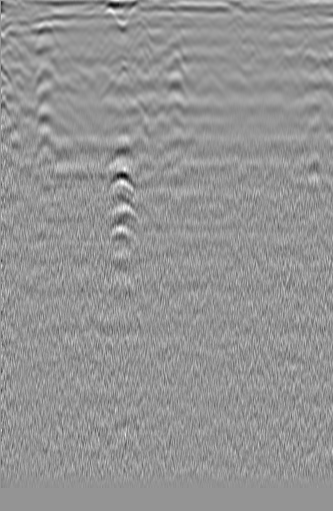가스: (105, 170, 135, 195)
상수: (19, 16, 67, 56)
오수: (294, 28, 327, 64)
우수: (158, 42, 187, 62)
